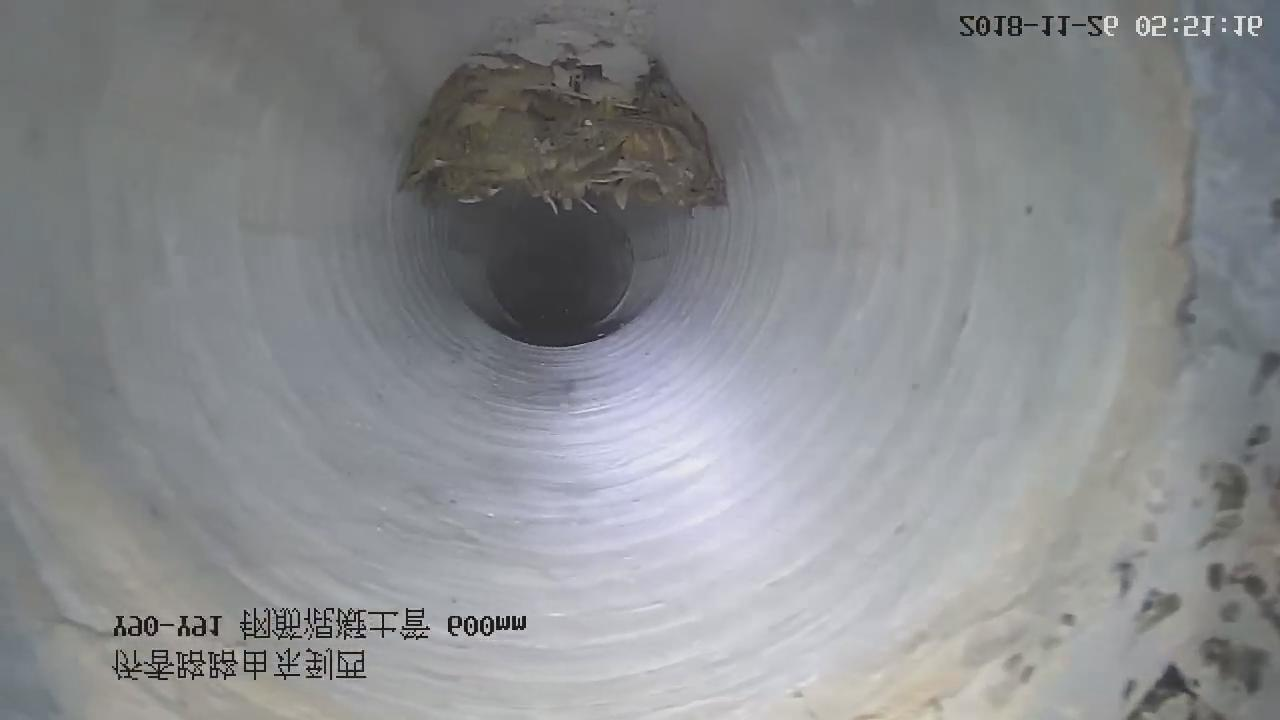ZAW: (401, 22, 725, 210)
